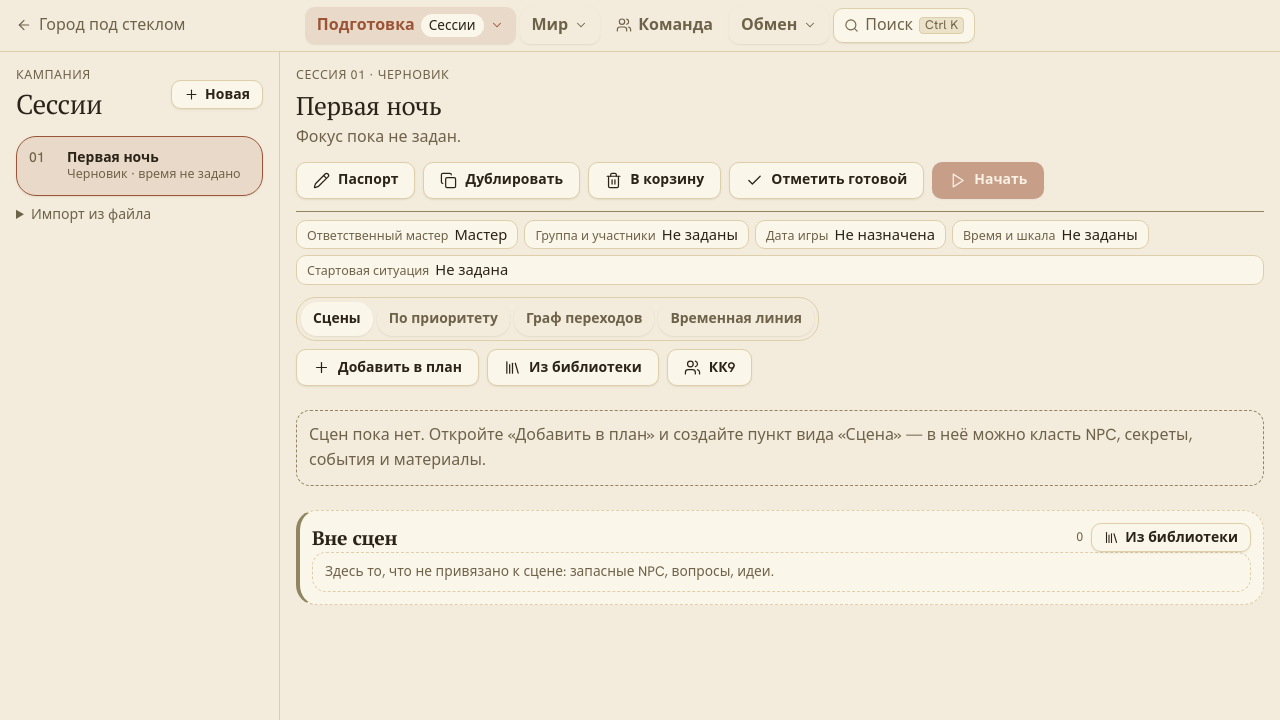
it: КК9 у плана сессии › панель показывает стол, партию, заявки и журнал
The width and height of the screenshot is (1280, 720).
Step 1. Click the button "КК9" → x=710, y=368, box [667,349,752,386]
(page scrolled)
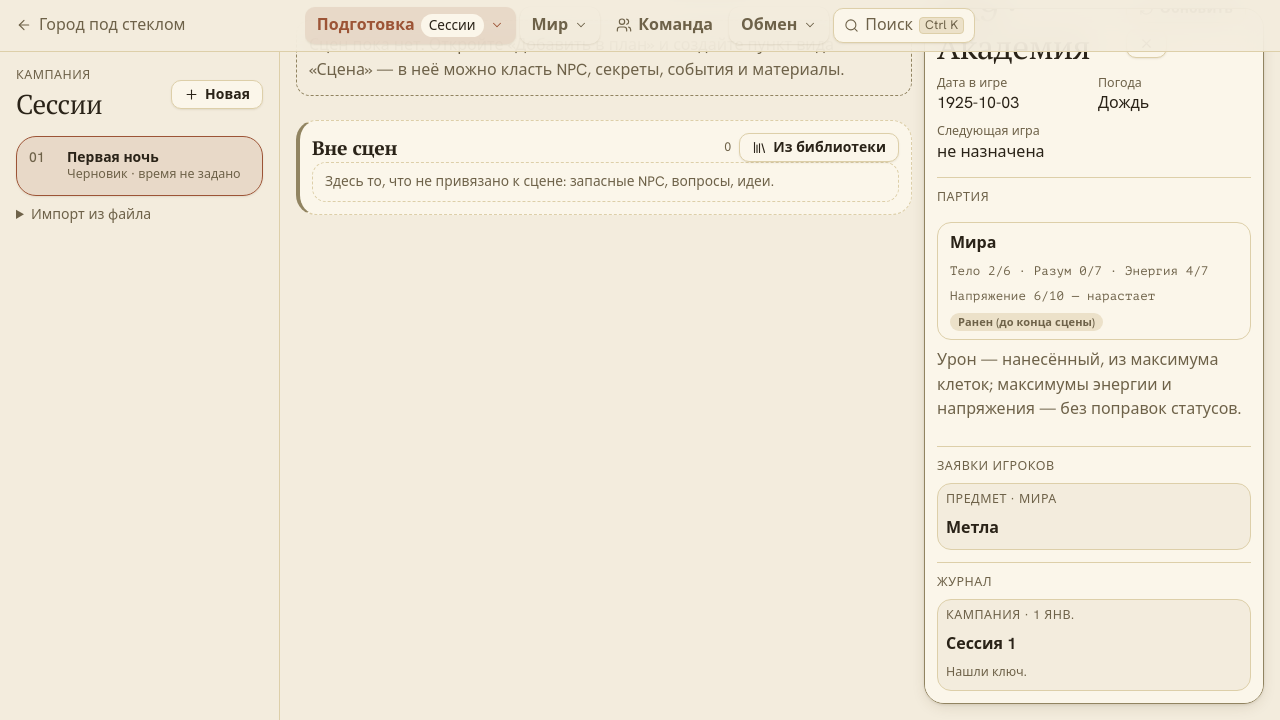
Expected: the element named "Партия: Мира" is shown, [937,222,1251,340]
Expected: the text "1925-10-03" is shown, [937,92,1019,114]
Expected: the text "Ранен (до конца сцены)" is shown, [950,312,1103,331]
